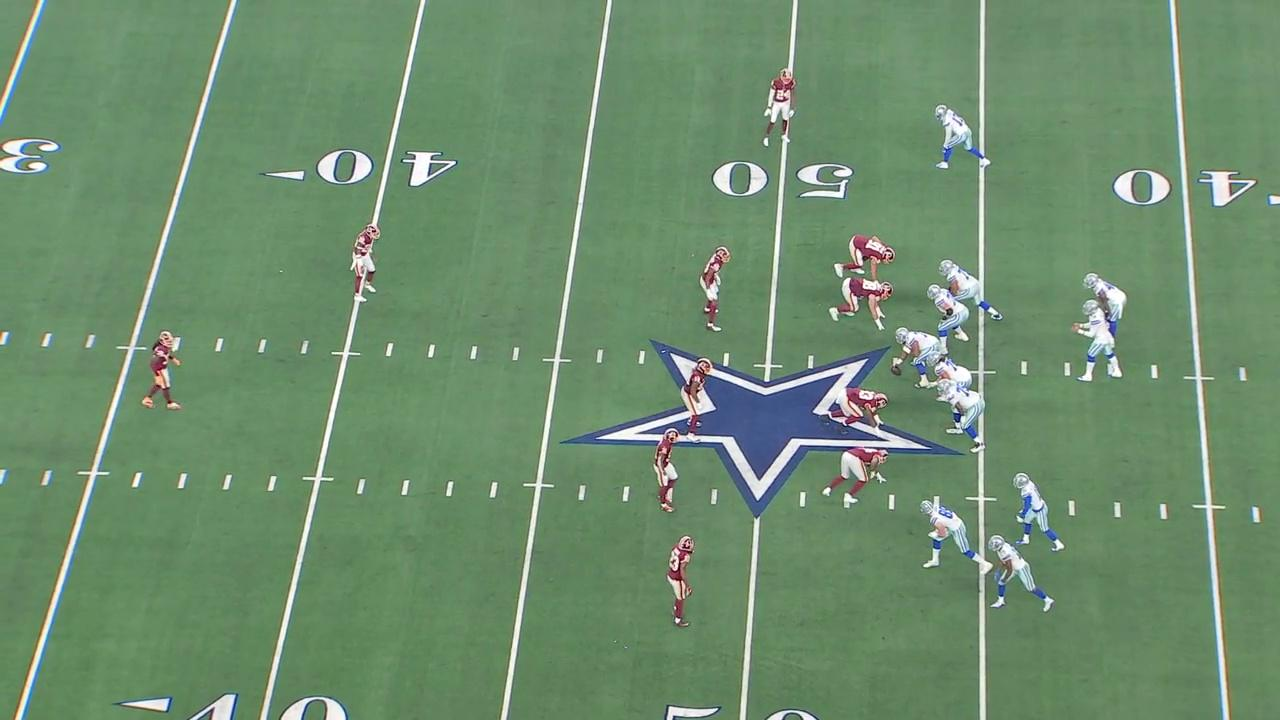player: (920, 499, 997, 579), (986, 535, 1057, 616), (1011, 469, 1066, 555), (1071, 302, 1127, 384), (932, 101, 994, 173), (822, 446, 890, 507), (943, 257, 1001, 324), (939, 379, 987, 459), (757, 67, 801, 147), (824, 278, 897, 326), (142, 328, 180, 413), (697, 244, 733, 333), (832, 231, 896, 281), (1083, 268, 1129, 337), (825, 388, 888, 437), (665, 536, 698, 628), (651, 423, 682, 518), (682, 356, 715, 443), (928, 280, 970, 348), (895, 326, 941, 387), (350, 221, 381, 307), (929, 351, 972, 405)
